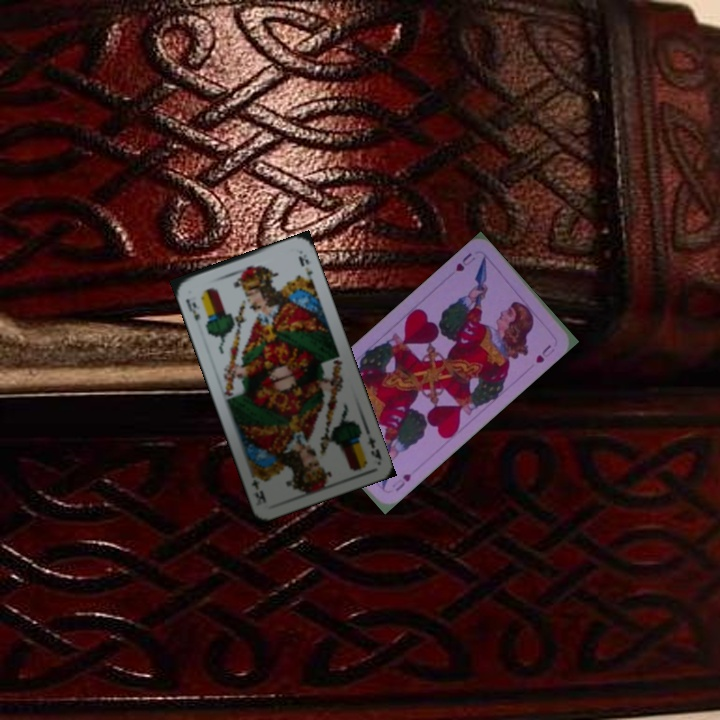EK: (361, 425, 384, 462), (182, 295, 203, 323)
HU: (452, 248, 478, 274), (388, 469, 414, 494)
